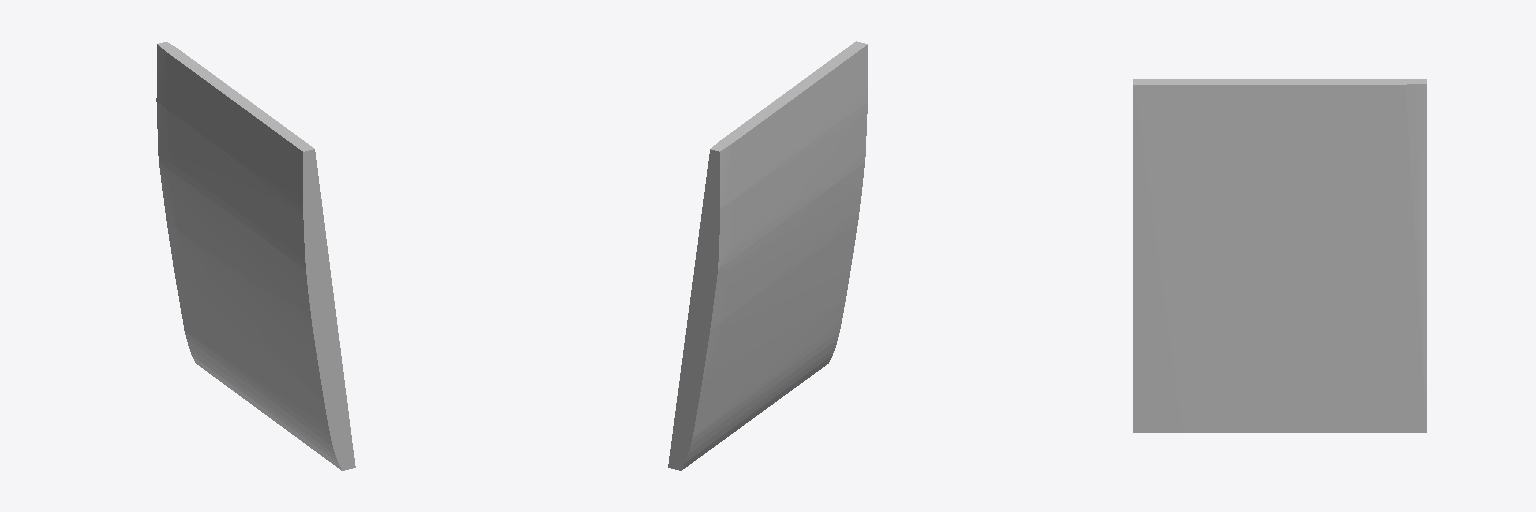
File: laundry_basket_collision_30.obj
The picture shows the model from 3 angles: view 1: azimuth 30°, elevation 25°; view 2: azimuth 150°, elevation 25°; view 3: azimuth 270°, elevation 25°; orthographic projection.
Size of the model in its own units: 0.1876 by 1.11 by 0.9021.